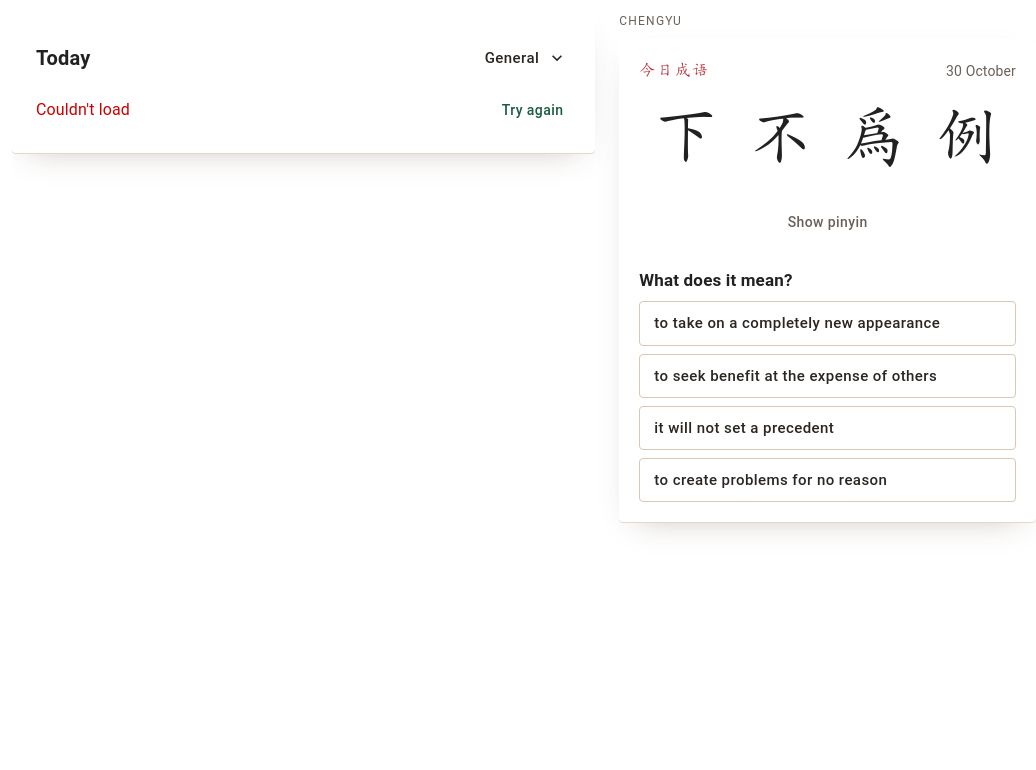
Test: Dashboard container › retries loading when "Try again" is clicked and shows stats on success
The image size is (1036, 770).
Click the button "Try again" at (533, 110), box x1=494 y1=92 x2=571 y2=128
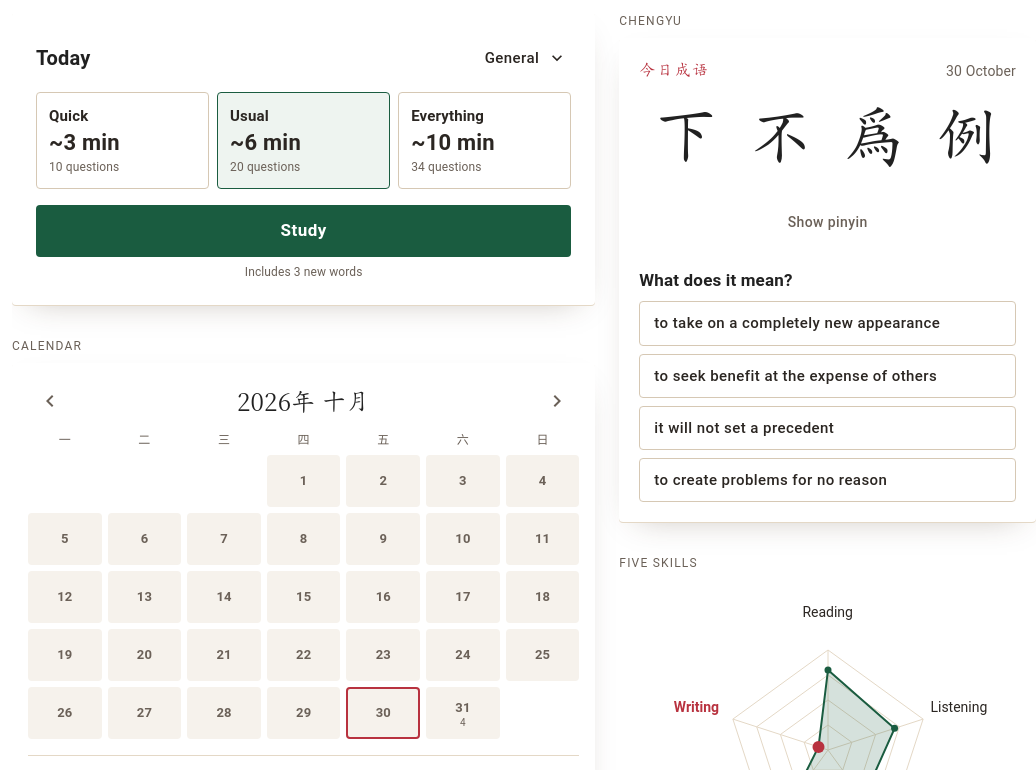
expect the button "Study" is shown: met, box x1=36 y1=205 x2=571 y2=257
